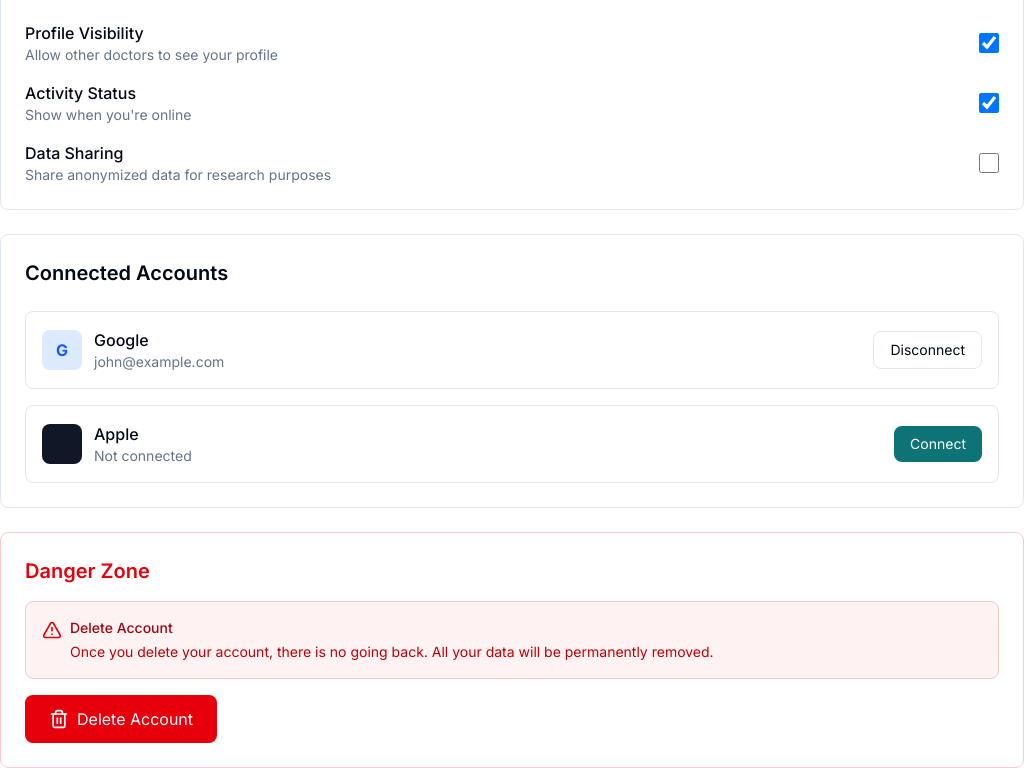
it: AccountSettings › should show error if password is empty for password users
The width and height of the screenshot is (1024, 768).
(page scrolled)
// Open modal
Click the button "Delete Account" at (121, 719), box 25,695 -> 217,743
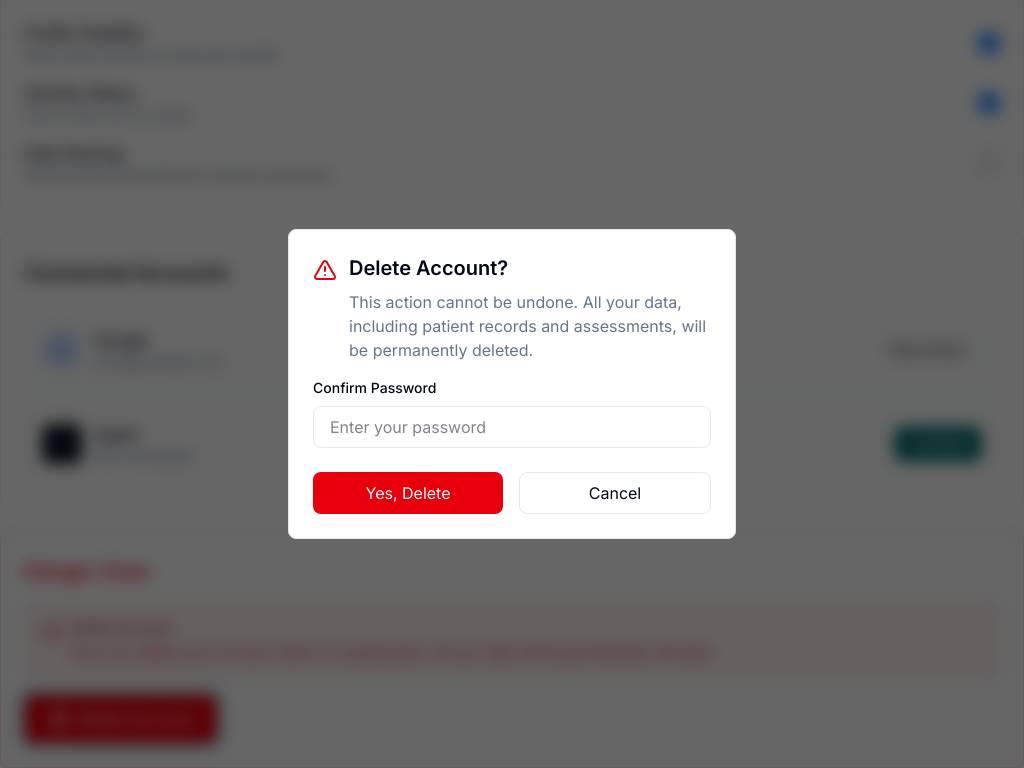
// Don't enter password, just confirm
Click the button "Yes, Delete" at (408, 493), box 313,472 -> 503,514
(page scrolled)
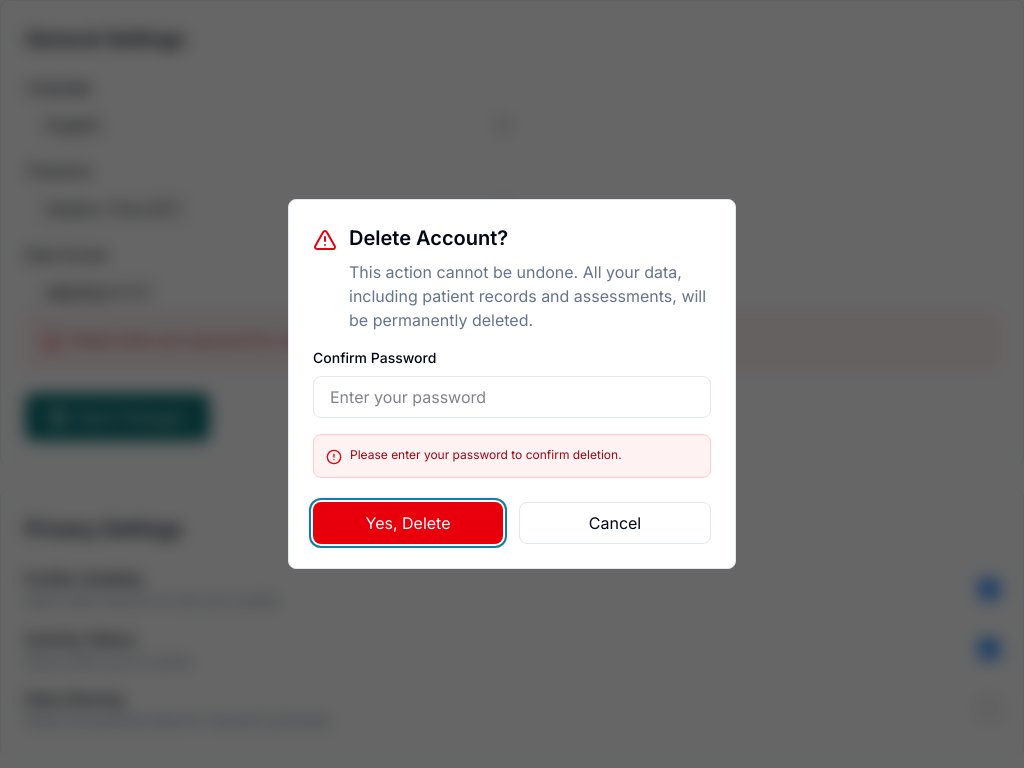
expect the text "Please enter your password to confirm deletion." below "Date Format" is shown: met, box 70,331 -> 387,348
